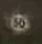limite 50: (6, 10, 32, 36)
